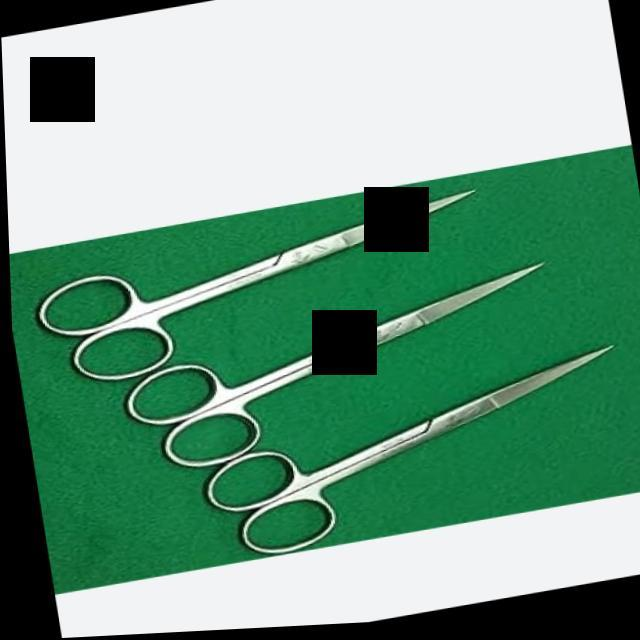Straight Mayo: (98, 258, 568, 484), (184, 344, 640, 566), (23, 185, 497, 392)
